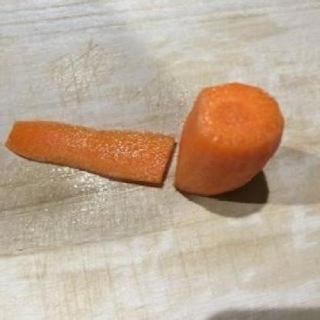carrot: (170, 76, 286, 212)
